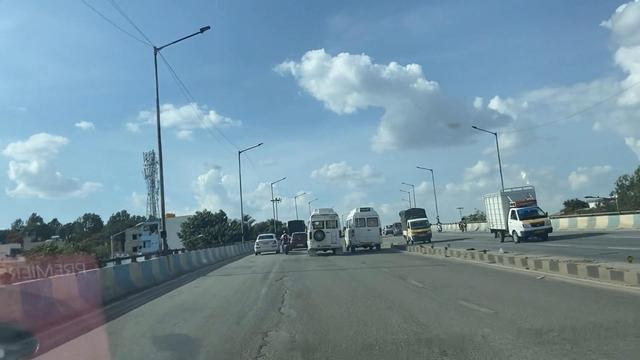HMV: (341, 204, 385, 254), (303, 208, 346, 254)
LMV: (251, 230, 282, 257), (279, 231, 292, 252)
RoadDamages: (357, 317, 542, 360), (247, 271, 324, 360)
